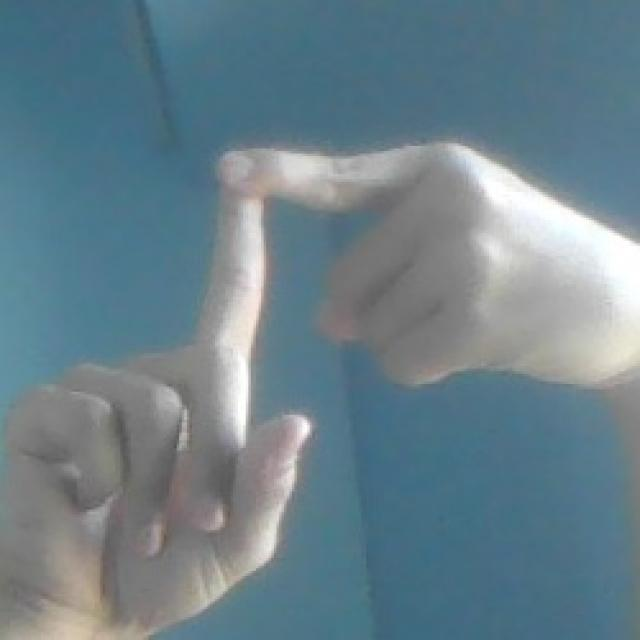Alphabet-E: (0, 143, 640, 640)
